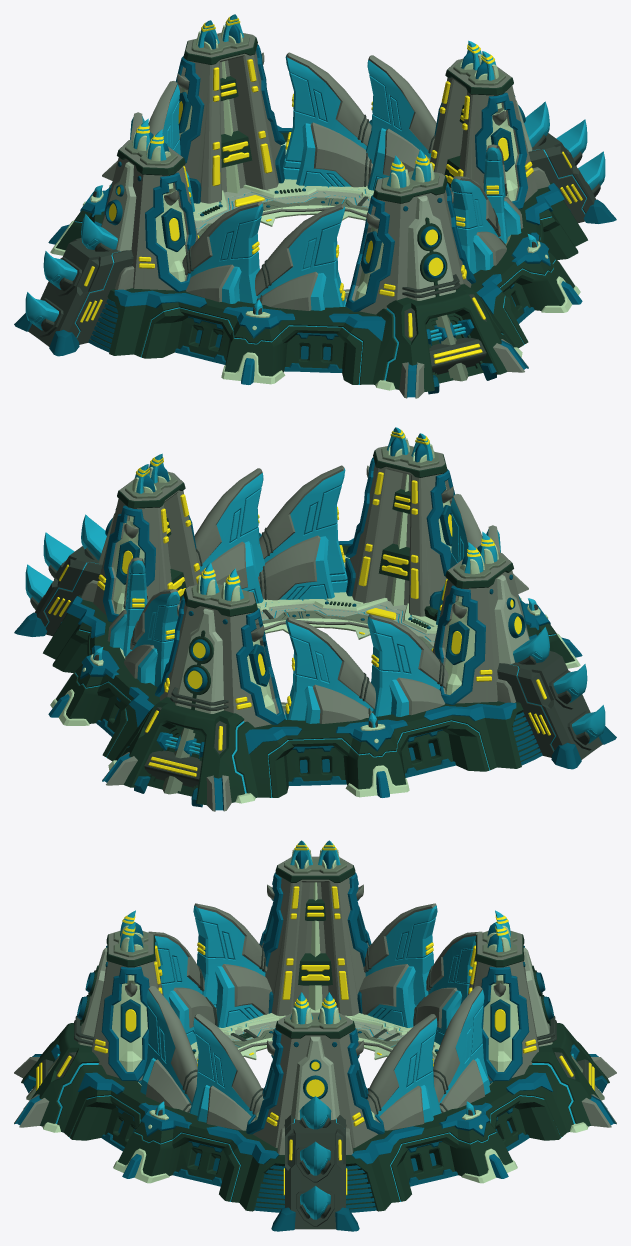
File: arena_lightignite.fbx
3 views of the same model, one above another, from view 1: azimuth 30°, elevation 25°; view 2: azimuth 150°, elevation 25°; view 3: azimuth 270°, elevation 25° (orthographic). The views are drawn at different scales.
Visible parts, largest first — view 1: Light_Ignite_Beystadium_Arena; view 2: Light_Ignite_Beystadium_Arena; view 3: Light_Ignite_Beystadium_Arena.
Boxes of the visible parts, bbox=[...] form: Light_Ignite_Beystadium_Arena: bbox=[14, 14, 616, 398]; Light_Ignite_Beystadium_Arena: bbox=[14, 427, 616, 811]; Light_Ignite_Beystadium_Arena: bbox=[14, 840, 616, 1231].
Size of what is drawn, in the model's own units: 60.79 by 19.51 by 56.46.
2 materials, 2 textured.
